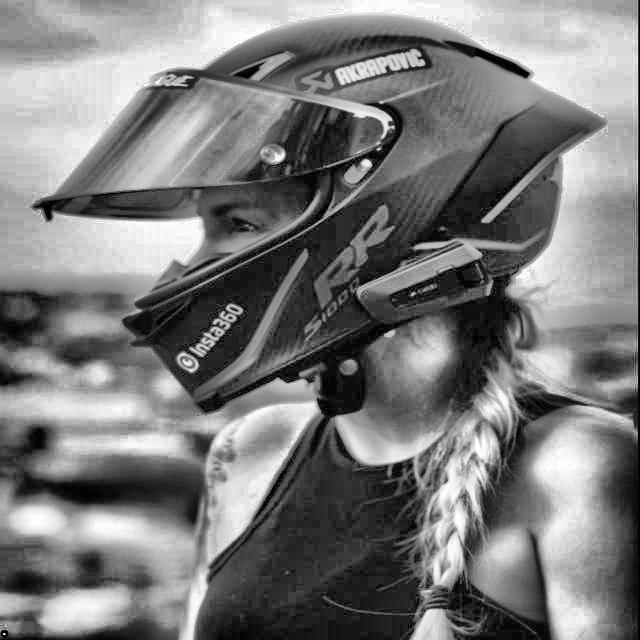Helmet: (27, 6, 623, 421)
